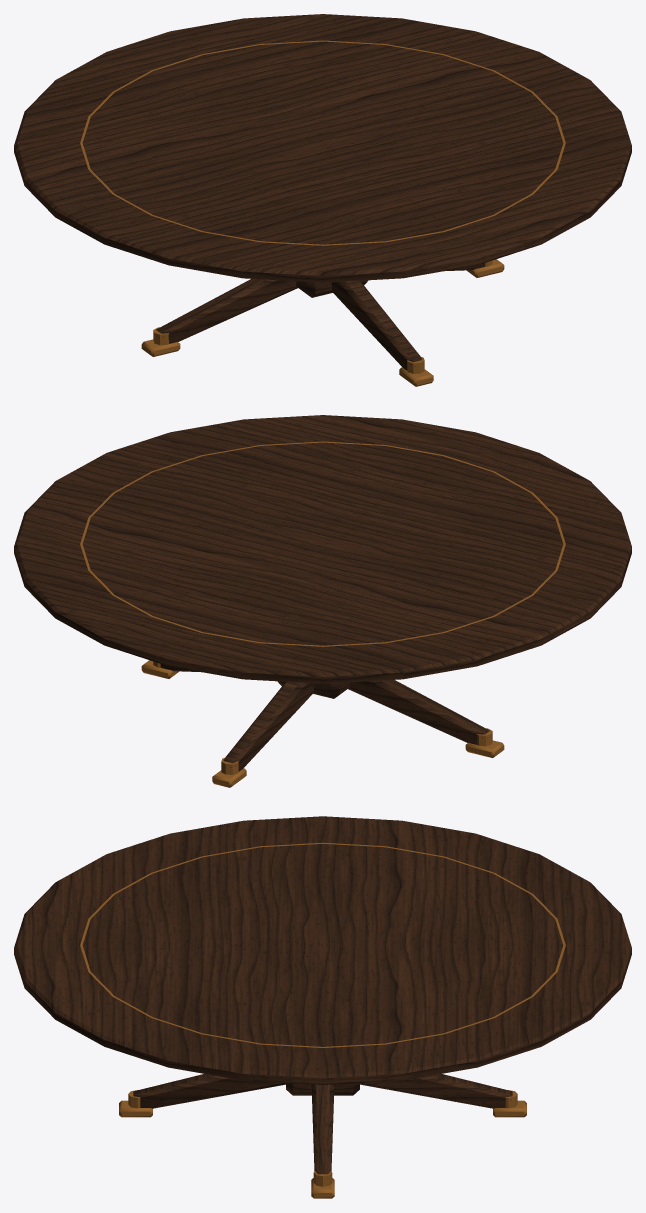
File: arrival-table.lod1.glb
3 renders of one model, top to bottom at view 1: azimuth 30°, elevation 25°; view 2: azimuth 150°, elevation 25°; view 3: azimuth 270°, elevation 25°, orthographic.
Visible parts, largest first — view 1: arrival_table_Timber • oiled walnut, arrival_table_Trim • brass and bronze; view 2: arrival_table_Timber • oiled walnut, arrival_table_Trim • brass and bronze; view 3: arrival_table_Timber • oiled walnut, arrival_table_Trim • brass and bronze.
Boxes of the visible parts, x1,y1,x2,y2 form: arrival_table_Timber • oiled walnut: (14, 14, 631, 370); arrival_table_Trim • brass and bronze: (80, 40, 565, 386); arrival_table_Timber • oiled walnut: (14, 415, 631, 771); arrival_table_Trim • brass and bronze: (80, 441, 565, 787); arrival_table_Timber • oiled walnut: (14, 816, 631, 1178); arrival_table_Trim • brass and bronze: (80, 842, 565, 1198).
Bounding box in the file's own units: 2 × 0.6006 × 2.
2 materials, 2 textured.
